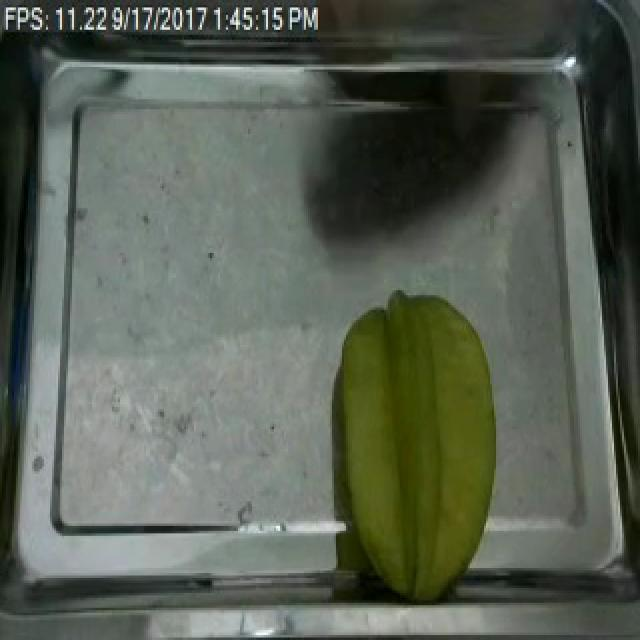fruit: (326, 275, 514, 608)
